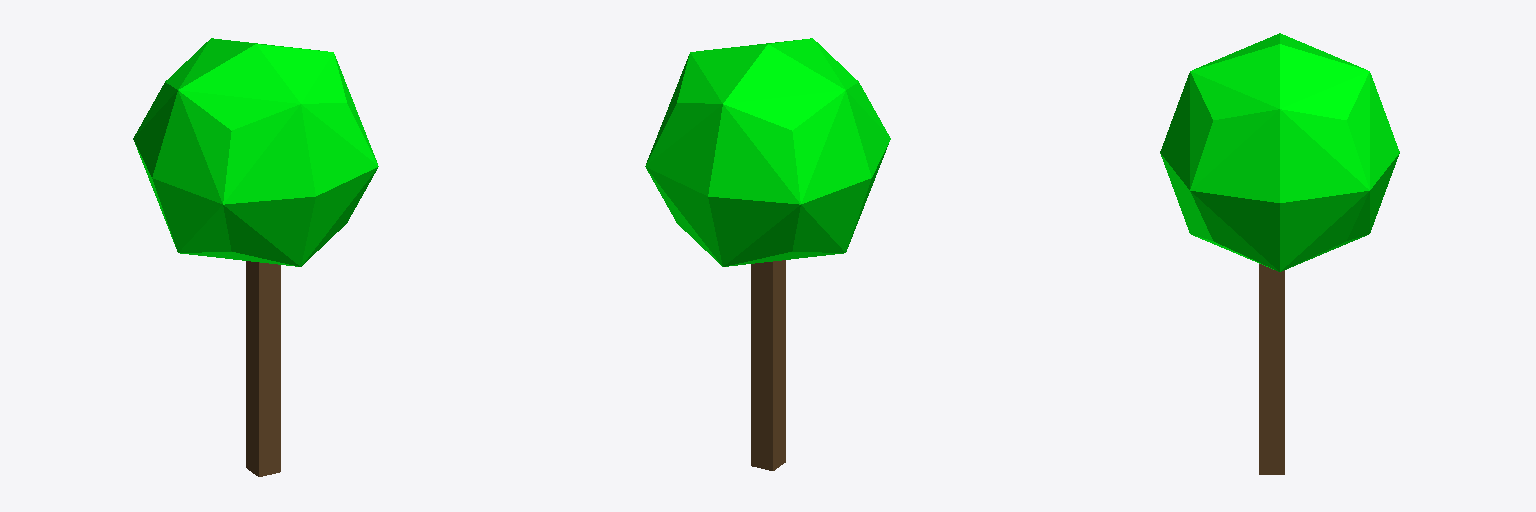
3 views of the same model, side by side, from view 1: azimuth 30°, elevation 25°; view 2: azimuth 150°, elevation 25°; view 3: azimuth 270°, elevation 25° (orthographic).
Visible parts, largest first — view 1: 立方体.1, 树干; view 2: 立方体.1, 树干; view 3: 立方体.1, 树干.
Part boxes in pixels (left/top/right/bottom): 立方体.1: left=133, top=38, right=378, bottom=266; 树干: left=246, top=261, right=280, bottom=476; 立方体.1: left=645, top=38, right=890, bottom=266; 树干: left=751, top=260, right=785, bottom=470; 立方体.1: left=1160, top=33, right=1399, bottom=271; 树干: left=1259, top=264, right=1284, bottom=474.
Size of the model in its own units: 371 by 724 by 371.